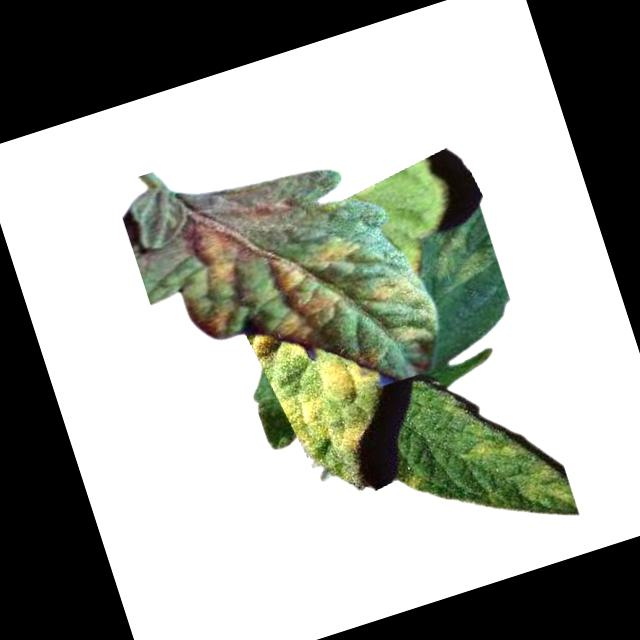Leaf_Mold: (246, 300, 393, 473), (261, 243, 338, 322), (182, 215, 243, 293), (515, 461, 575, 520), (458, 426, 524, 471), (303, 228, 362, 271), (356, 270, 415, 312), (405, 476, 423, 496)
